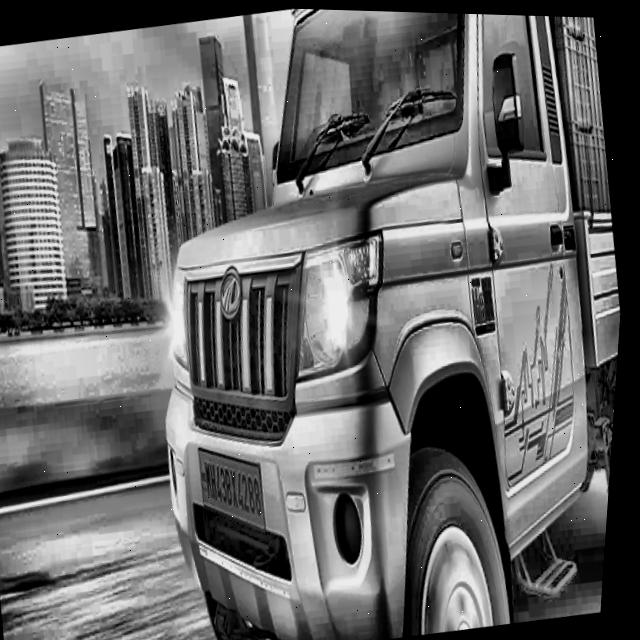light_vehicle: (98, 3, 640, 640)
